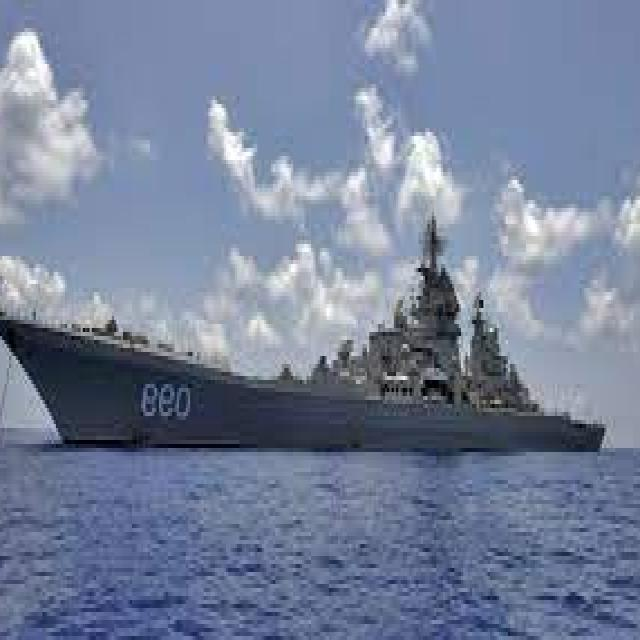navalvessels: (0, 216, 611, 476)
